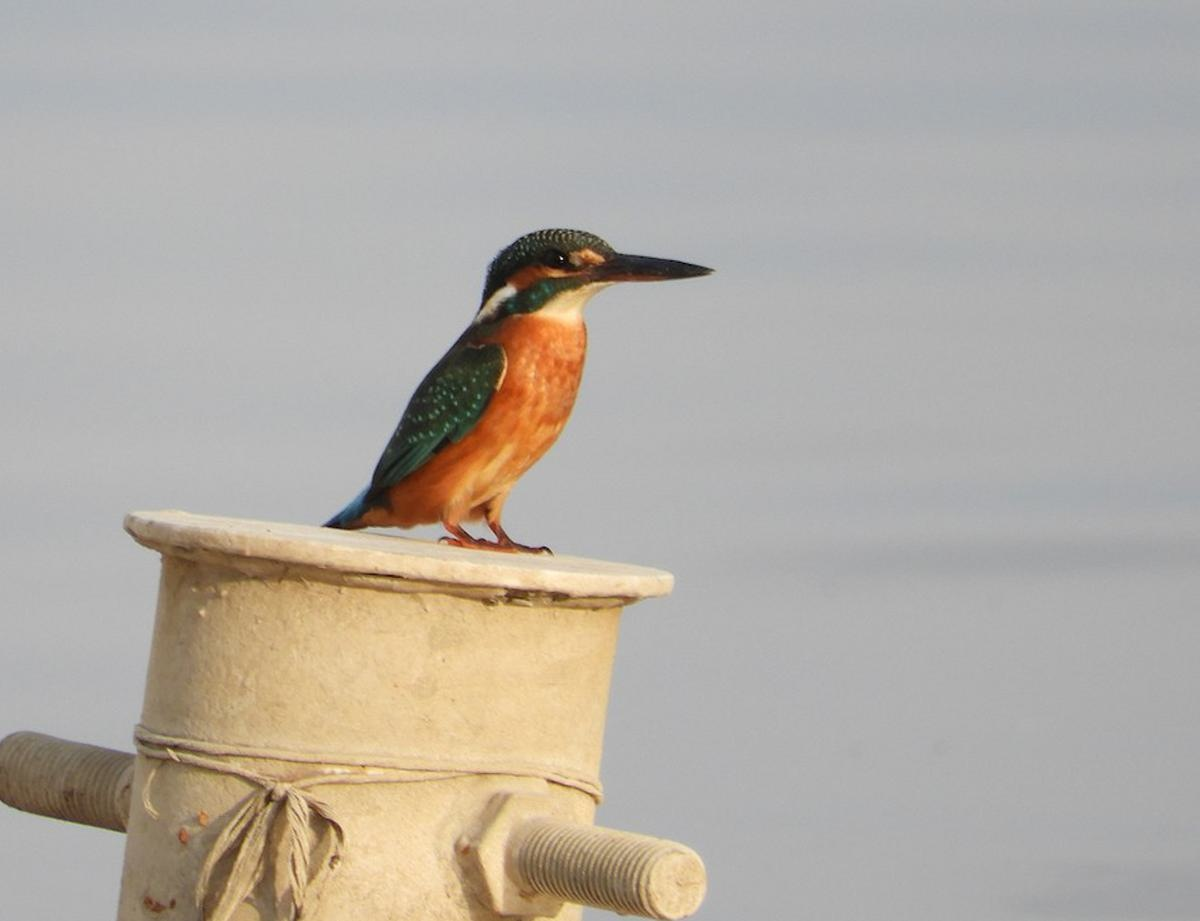kingfisher: (369, 217, 698, 547)
